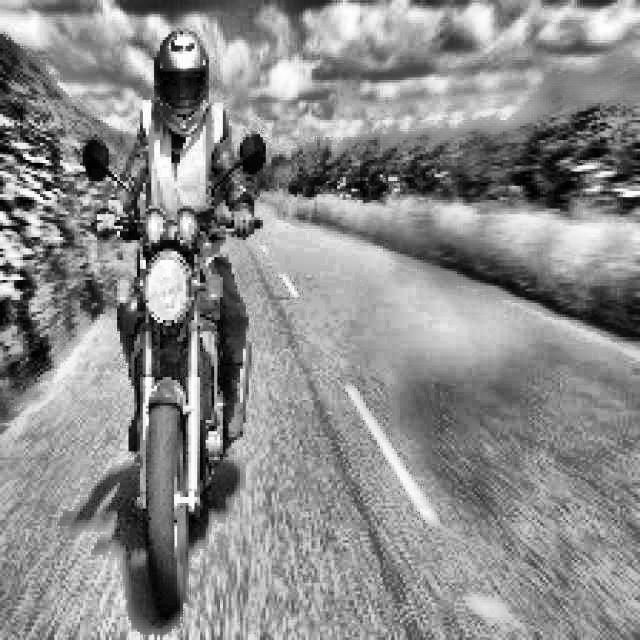motorcycle: (70, 125, 294, 624)
